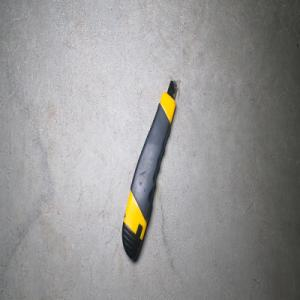Cutter: (120, 77, 178, 261)
